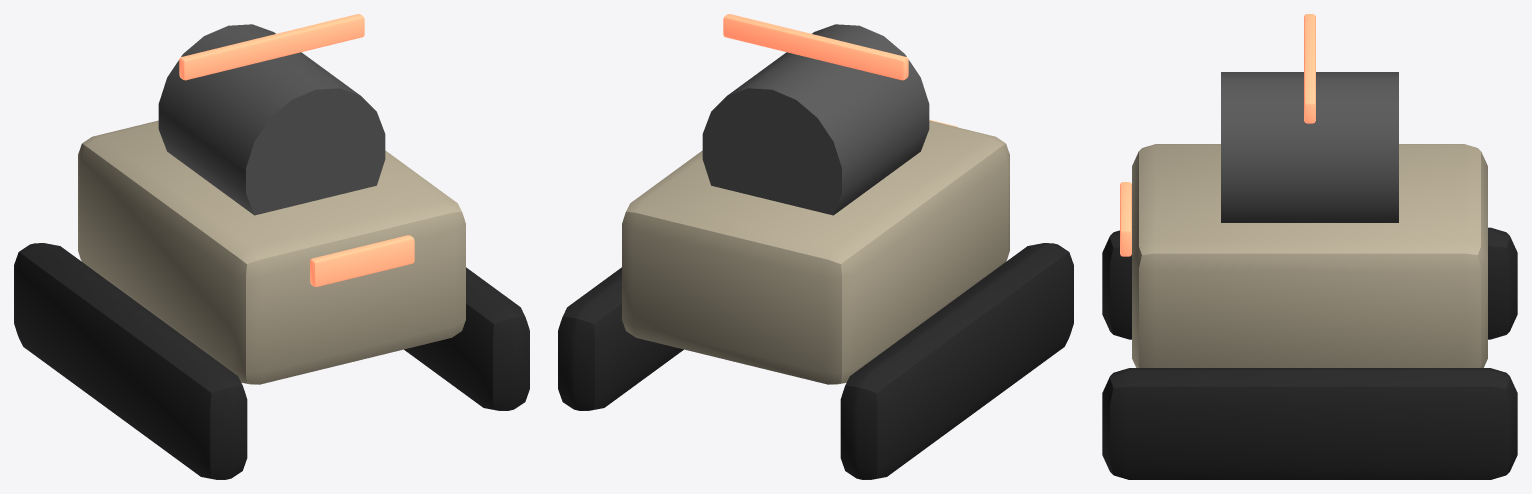
Rendered from robotbomb.glb.
The picture shows the model from 3 angles, left to right: view 1: azimuth 30°, elevation 25°; view 2: azimuth 150°, elevation 25°; view 3: azimuth 270°, elevation 25°; orthographic projection.
Visible parts, largest first — view 1: Body; view 2: Body; view 3: Body.
Boxes of the visible parts, <box> form: Body: <box>14,14,529,479</box>; Body: <box>558,14,1073,479</box>; Body: <box>1102,14,1517,479</box>.
Bounding box in the file's own units: 0.66 × 0.65 × 0.7.
